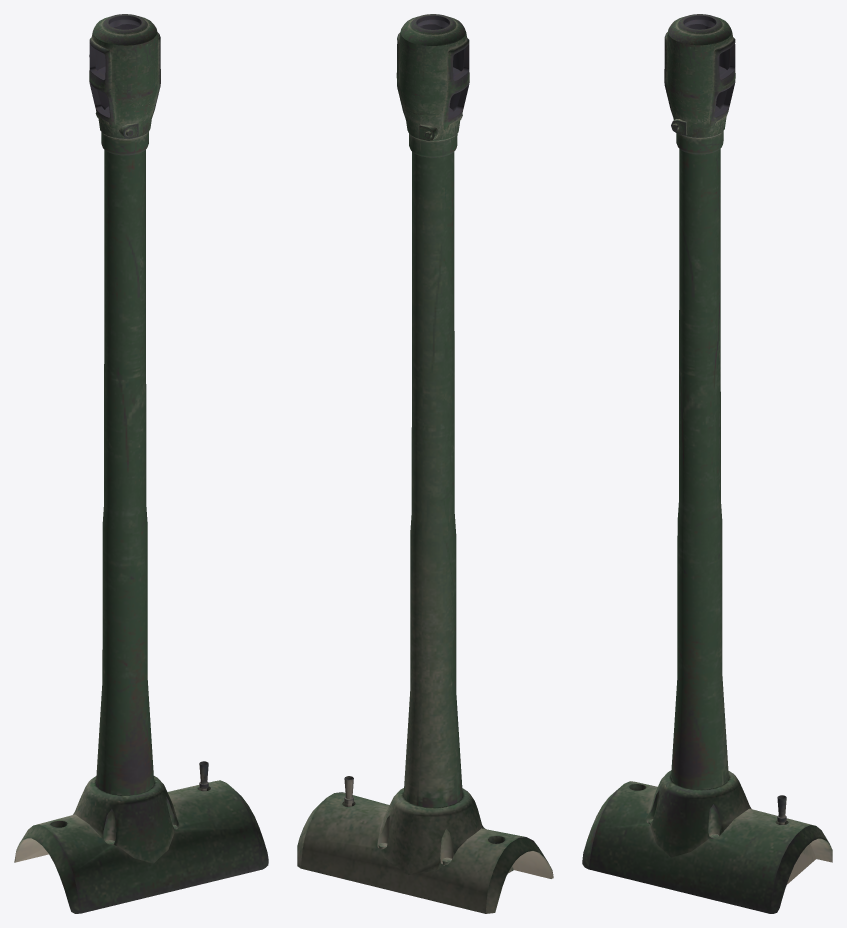
Rendered from Gun_01.glb.
3 renders of one model, left to right at view 1: azimuth 30°, elevation 25°; view 2: azimuth 150°, elevation 25°; view 3: azimuth 330°, elevation 25°, orthographic. The views are drawn at different scales.
Parts seen in each view (by area): view 1: set_0_group_0; view 2: set_0_group_0; view 3: set_0_group_0.
Boxes of the visible parts, box(x1,y1,x2,y2) form: set_0_group_0: box(14, 14, 268, 913); set_0_group_0: box(297, 14, 553, 913); set_0_group_0: box(582, 14, 832, 913).
Bounding box in the file's own units: 1.06 × 4.29 × 0.5529.
1 material, 1 textured.
